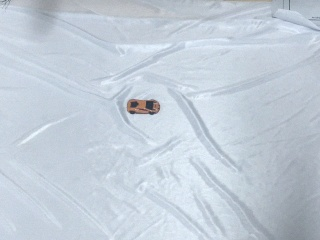toy_car: (127, 98, 161, 116)
